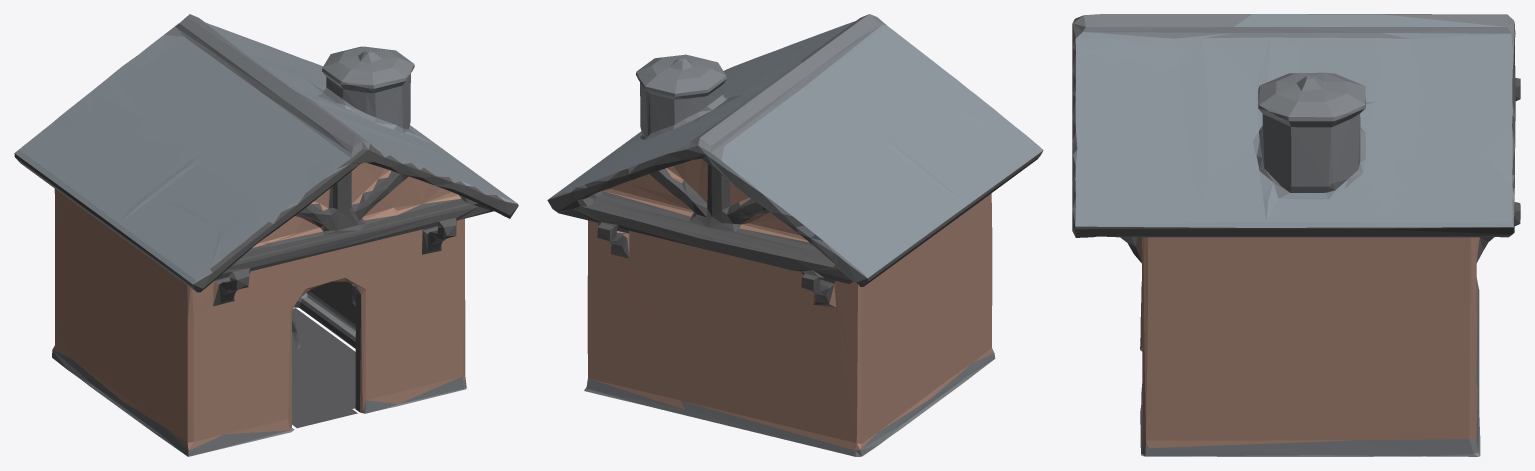
The picture shows the model from 3 angles, left to right: view 1: azimuth 30°, elevation 25°; view 2: azimuth 150°, elevation 25°; view 3: azimuth 270°, elevation 25°; orthographic projection. The views are drawn at different scales.
Parts seen in each view (by area): view 1: geometry_0; view 2: geometry_0; view 3: geometry_0.
Part boxes in pixels (x1=…): geometry_0: x1=14, y1=14, x2=518, y2=456; geometry_0: x1=547, y1=14, x2=1043, y2=456; geometry_0: x1=1072, y1=14, x2=1520, y2=456.
Size of the model in its own units: 0.9099 by 0.7927 by 0.8827.
